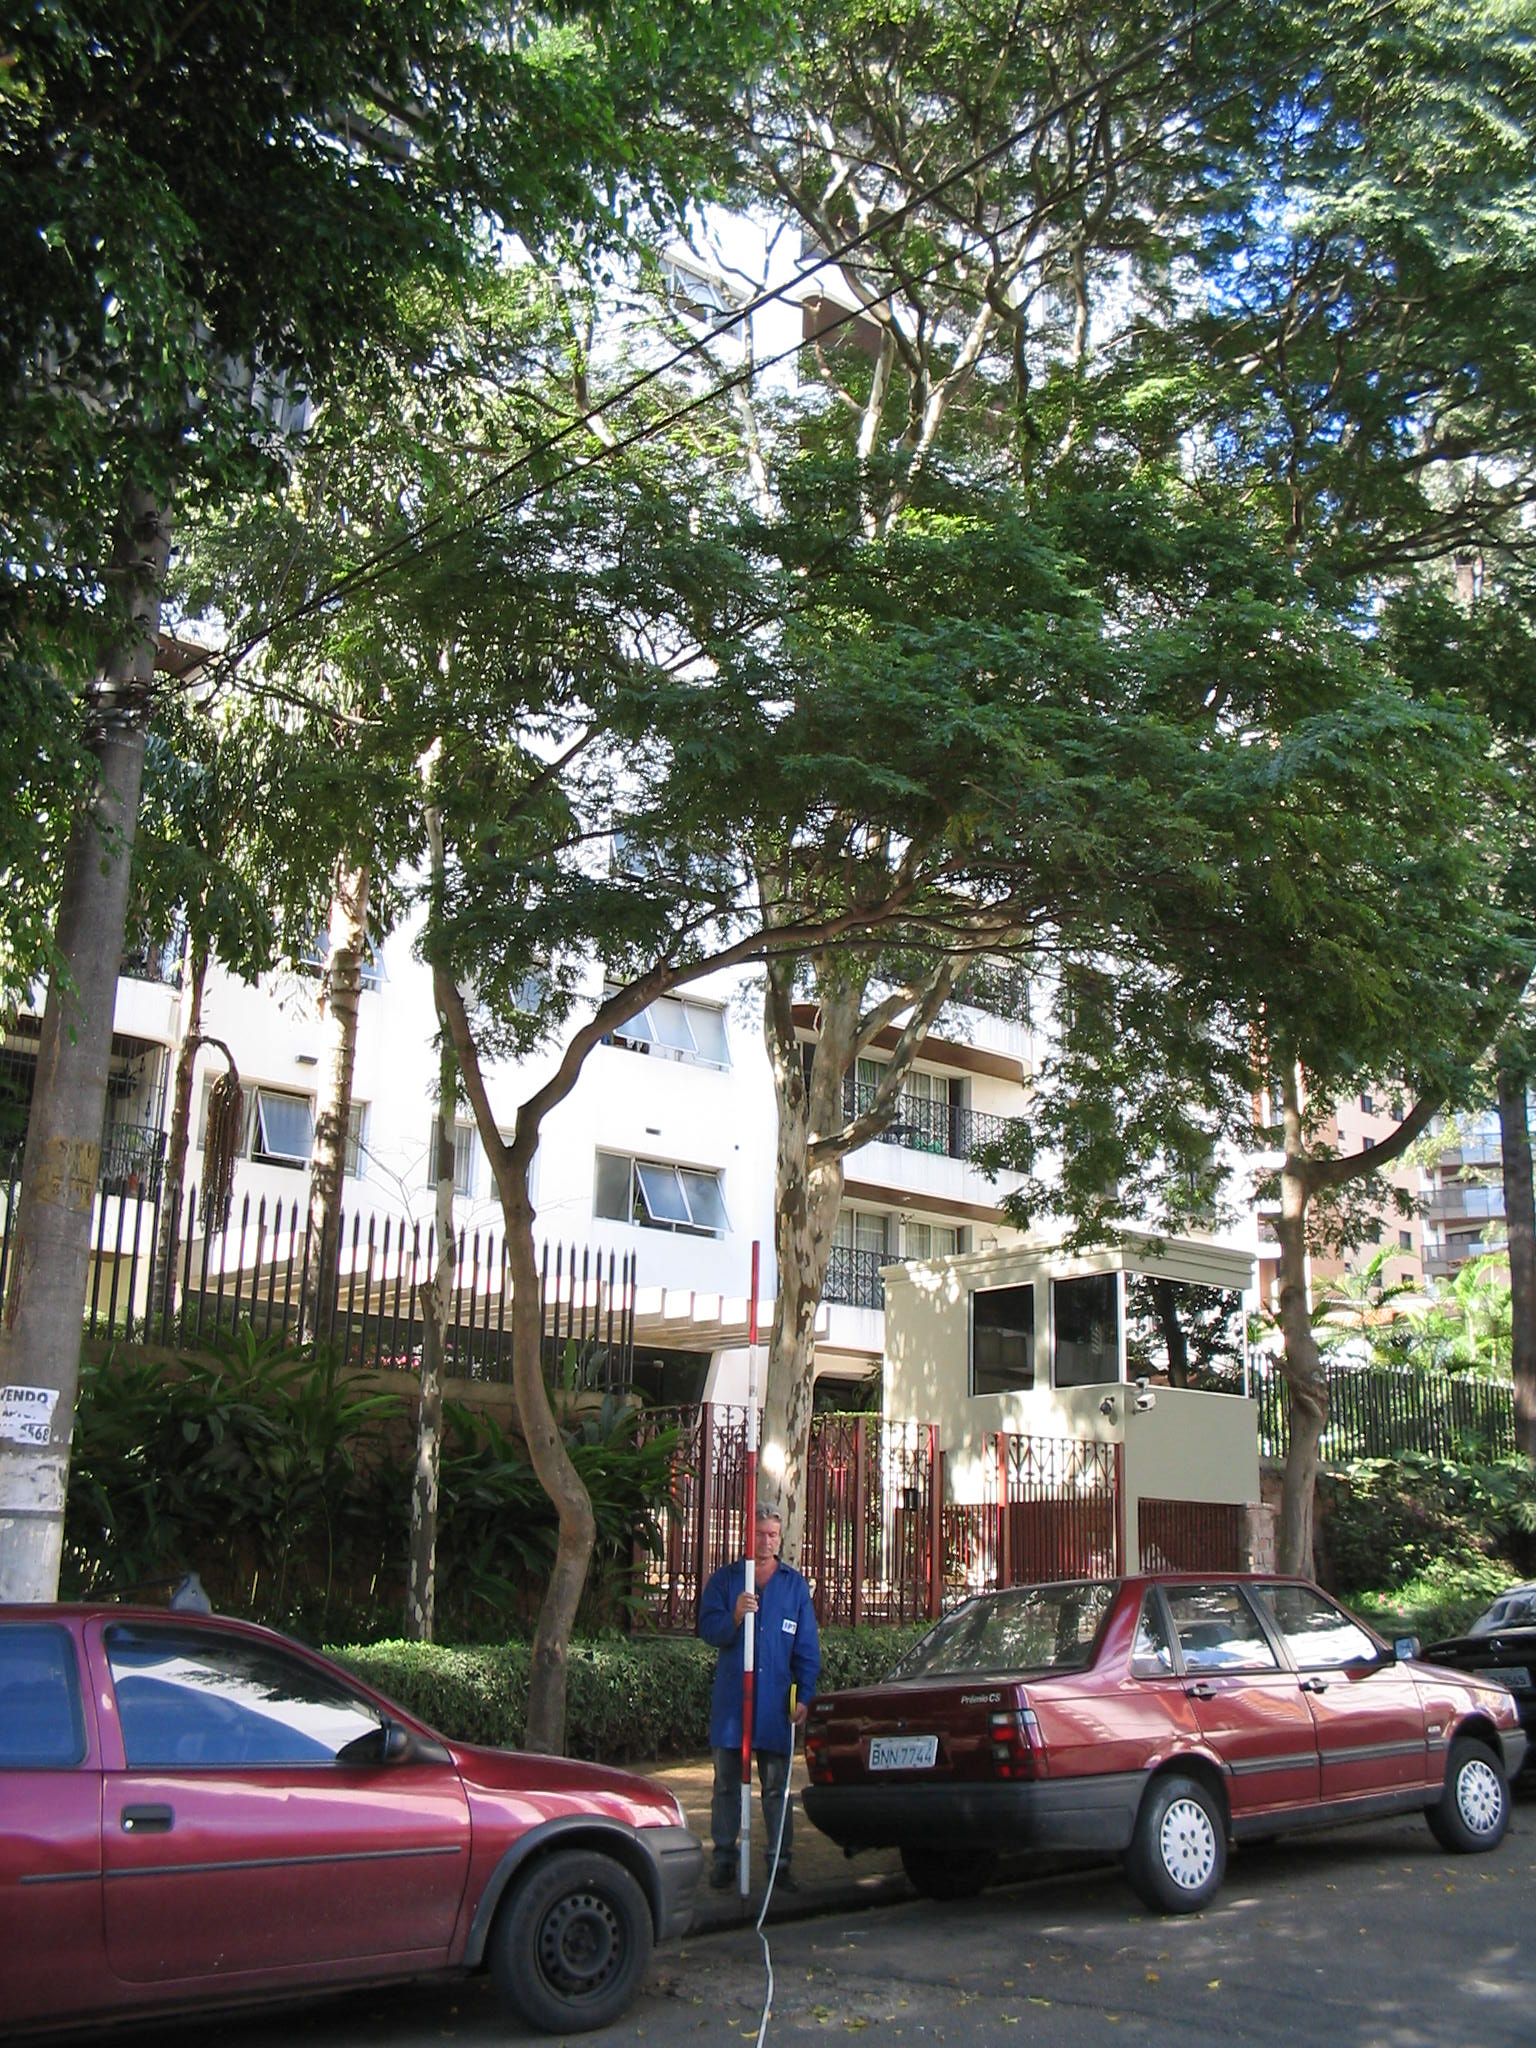crown: (174, 408, 1525, 1153)
stem: (465, 1176, 645, 1890)
stick: (715, 1240, 774, 1900)
tree: (166, 400, 1533, 1904)
